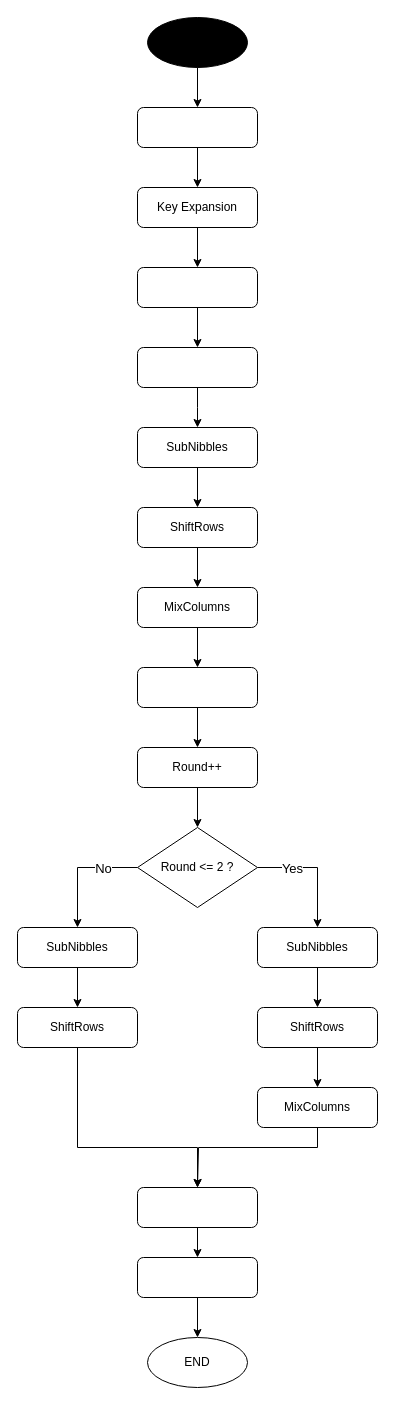
Some shapes in this 395 by 1405 pixel diagram are drawn without their labels. The shapes that lost their labels are listed below. From the top down, each one's box as (x1, y1, x2, y2) in pixels, then its label:
(136, 106, 258, 148): Plaintext, key
(136, 266, 258, 308): Add RoundKey (Round 0)
(136, 346, 258, 388): Round = 1
(136, 666, 258, 708): AddRoundKey
(136, 1186, 258, 1228): AddRoundKey (Final)
(136, 1256, 258, 1298): Cyphertext
